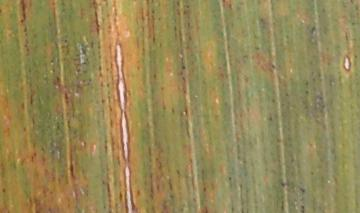tarspot: (308, 24, 317, 34), (299, 187, 307, 195), (226, 175, 233, 183), (180, 64, 187, 71)
